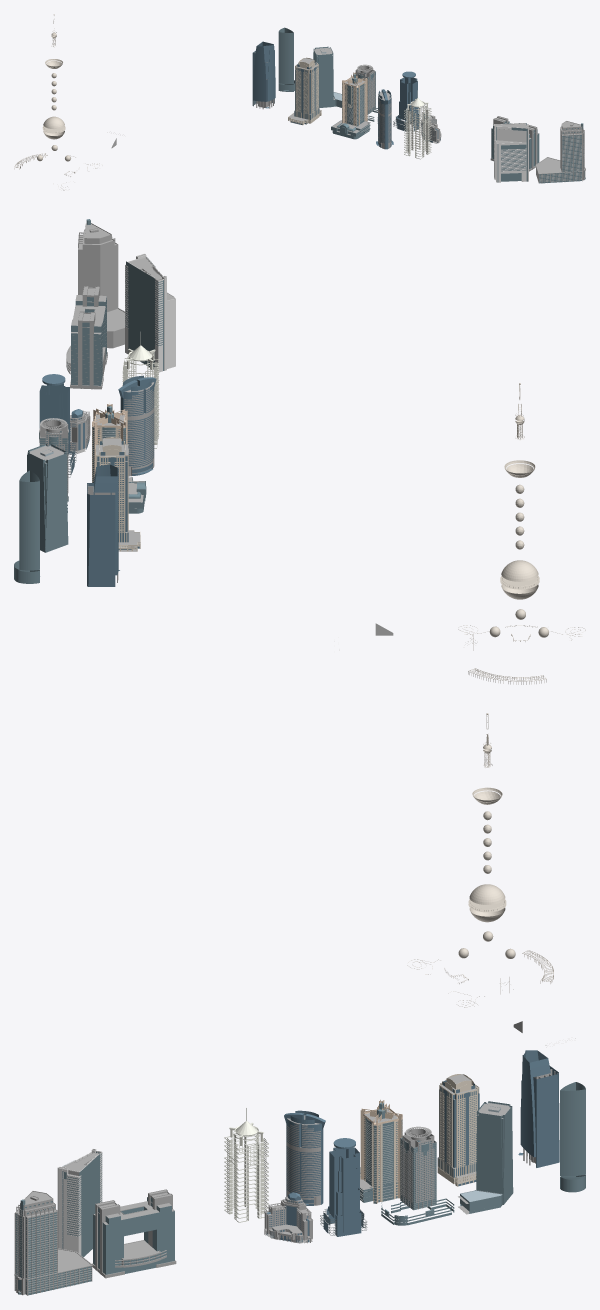
Rendered from lujiazui-2.glb.
The picture shows the model from 3 angles, top to bottom: view 1: azimuth 30°, elevation 25°; view 2: azimuth 150°, elevation 25°; view 3: azimuth 270°, elevation 25°; orthographic projection. The views are drawn at different scales.
Visible parts, largest first — view 1: source_1919_Mat3d66-1303573-2120-8235_part0, source_1921_Mat3d66-1303573-2039-4489_part0, source_1922_上海信息大楼_墙（白）_part0, source_1911_Mat3d66-1303573-2051-9833_part0, source_1931_Mat3d66-1303573-2170-3213_part0, source_1904_招商局大厦_墙面暖色石才_part0, source_1912_Mat3d66-1303573-2120-8235_part0, source_1932_Mat3d66-1303573-2165-1405_part0, source_1905_Mat3d66-1303573-2172-6161_part0, source_1929_Mat3d66-1303573-2120-8235_part0, source_1910_Mat3d66-1303573-2170-3213_part0, source_1924_Mat3d66-1303573-2120-8235_part0 (+9 smaller); view 2: source_1919_Mat3d66-1303573-2120-8235_part0, source_1921_Mat3d66-1303573-2039-4489_part0, source_1931_Mat3d66-1303573-2170-3213_part0, source_1932_Mat3d66-1303573-2165-1405_part0, source_1924_Mat3d66-1303573-2120-8235_part0, source_1916_Mat3d66-1303573-2172-6161_part0, source_1929_Mat3d66-1303573-2120-8235_part0, source_1922_上海信息大楼_墙（白）_part0, source_1918_Mat3d66-1303573-2039-4489_part0, source_1905_Mat3d66-1303573-2172-6161_part0, source_1920_Mat3d66-1303573-2153-4388_part0, source_1911_Mat3d66-1303573-2051-9833_part0 (+7 smaller); view 3: source_1919_Mat3d66-1303573-2120-8235_part0, source_1921_Mat3d66-1303573-2039-4489_part0, source_1931_Mat3d66-1303573-2170-3213_part0, source_1905_Mat3d66-1303573-2172-6161_part0, source_1924_Mat3d66-1303573-2120-8235_part0, source_1911_Mat3d66-1303573-2051-9833_part0, source_1904_招商局大厦_墙面暖色石才_part0, source_1932_Mat3d66-1303573-2165-1405_part0, source_1916_Mat3d66-1303573-2172-6161_part0, source_1929_Mat3d66-1303573-2120-8235_part0, source_1927_Mat3d66-1303573-2120-8235_part0, source_1928_Mat3d66-1303573-2046-7067_part0 (+8 smaller).
Boxes of the visible parts, x1,y1,x2,y2 form: source_1919_Mat3d66-1303573-2120-8235_part0: (491, 121, 585, 183); source_1921_Mat3d66-1303573-2039-4489_part0: (490, 116, 585, 183); source_1922_上海信息大楼_墙（白）_part0: (494, 123, 528, 182); source_1911_Mat3d66-1303573-2051-9833_part0: (288, 57, 321, 125); source_1931_Mat3d66-1303573-2170-3213_part0: (252, 41, 275, 108); source_1904_招商局大厦_墙面暖色石才_part0: (404, 90, 431, 159); source_1912_Mat3d66-1303573-2120-8235_part0: (331, 74, 370, 139); source_1932_Mat3d66-1303573-2165-1405_part0: (14, 14, 99, 190); source_1905_Mat3d66-1303573-2172-6161_part0: (396, 71, 440, 142); source_1929_Mat3d66-1303573-2120-8235_part0: (278, 27, 294, 91); source_1910_Mat3d66-1303573-2170-3213_part0: (291, 61, 319, 124); source_1924_Mat3d66-1303573-2120-8235_part0: (313, 46, 341, 107); source_1919_Mat3d66-1303573-2120-8235_part0: (67, 219, 163, 385); source_1921_Mat3d66-1303573-2039-4489_part0: (66, 223, 124, 389); source_1931_Mat3d66-1303573-2170-3213_part0: (87, 464, 119, 586); source_1932_Mat3d66-1303573-2165-1405_part0: (458, 383, 585, 684); source_1924_Mat3d66-1303573-2120-8235_part0: (27, 444, 68, 552); source_1916_Mat3d66-1303573-2172-6161_part0: (118, 375, 156, 475); source_1929_Mat3d66-1303573-2120-8235_part0: (14, 470, 40, 583); source_1922_上海信息大楼_墙（白）_part0: (125, 253, 175, 372); source_1918_Mat3d66-1303573-2039-4489_part0: (124, 387, 154, 476); source_1905_Mat3d66-1303573-2172-6161_part0: (39, 374, 89, 474); source_1920_Mat3d66-1303573-2153-4388_part0: (67, 224, 125, 383); source_1911_Mat3d66-1303573-2051-9833_part0: (95, 437, 140, 551); source_1919_Mat3d66-1303573-2120-8235_part0: (15, 1152, 174, 1295); source_1921_Mat3d66-1303573-2039-4489_part0: (14, 1189, 176, 1295); source_1931_Mat3d66-1303573-2170-3213_part0: (518, 1050, 559, 1167); source_1905_Mat3d66-1303573-2172-6161_part0: (266, 1138, 363, 1242); source_1924_Mat3d66-1303573-2120-8235_part0: (460, 1101, 513, 1213); source_1911_Mat3d66-1303573-2051-9833_part0: (437, 1074, 479, 1186); source_1904_招商局大厦_墙面暖色石才_part0: (224, 1107, 268, 1222); source_1932_Mat3d66-1303573-2165-1405_part0: (407, 713, 553, 1007); source_1916_Mat3d66-1303573-2172-6161_part0: (284, 1110, 325, 1205); source_1929_Mat3d66-1303573-2120-8235_part0: (560, 1082, 585, 1192); source_1927_Mat3d66-1303573-2120-8235_part0: (381, 1135, 454, 1225); source_1928_Mat3d66-1303573-2046-7067_part0: (400, 1126, 436, 1209).
Bounding box in the file's own units: 1203 × 431 × 849.
